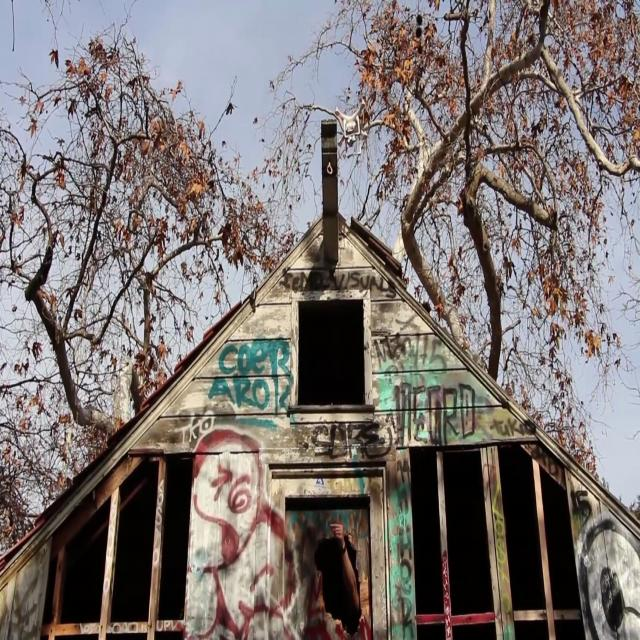drones: (325, 85, 381, 157)
